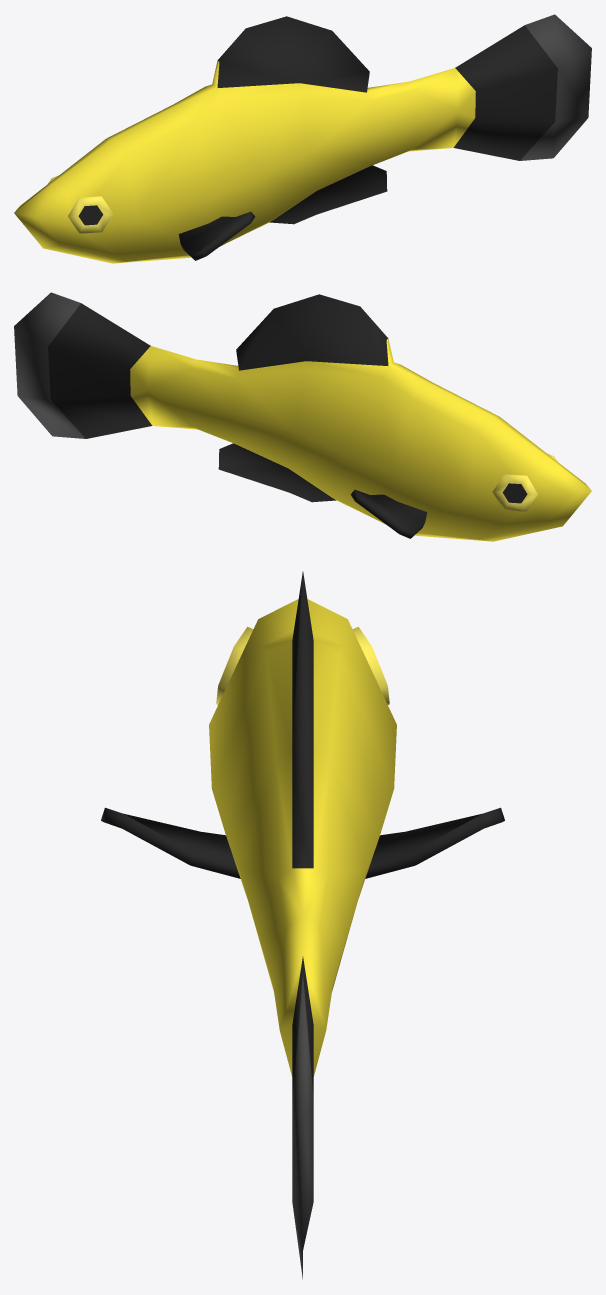
The model's file is Fish_020.glb.
3 views of the same model, one above another, from view 1: azimuth 30°, elevation 25°; view 2: azimuth 150°, elevation 25°; view 3: azimuth 270°, elevation 25° (orthographic). The views are drawn at different scales.
Visible parts, largest first — view 1: Fish_020; view 2: Fish_020; view 3: Fish_020.
Part boxes in pixels (left/top/right/bottom): Fish_020: left=14, top=14, right=591, bottom=263; Fish_020: left=14, top=292, right=591, bottom=541; Fish_020: left=101, top=571, right=504, bottom=1279.
Bounding box in the file's own units: 0.6149 × 0.2229 × 0.1863.
Materials: 1 (1 with a texture image).
